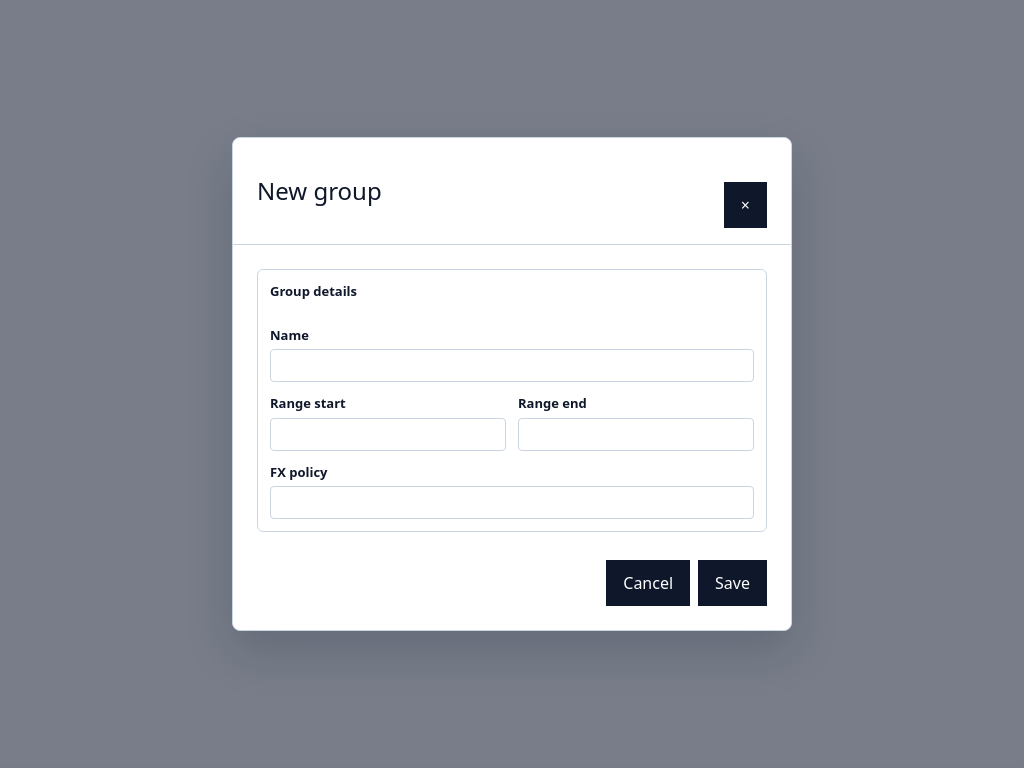
GroupFormModal › blocks an inverted code range as UX-only validation
Type "Assets" into the field labelled "Name".
click(512, 366); type("Assets")  # box [270,349,754,382]
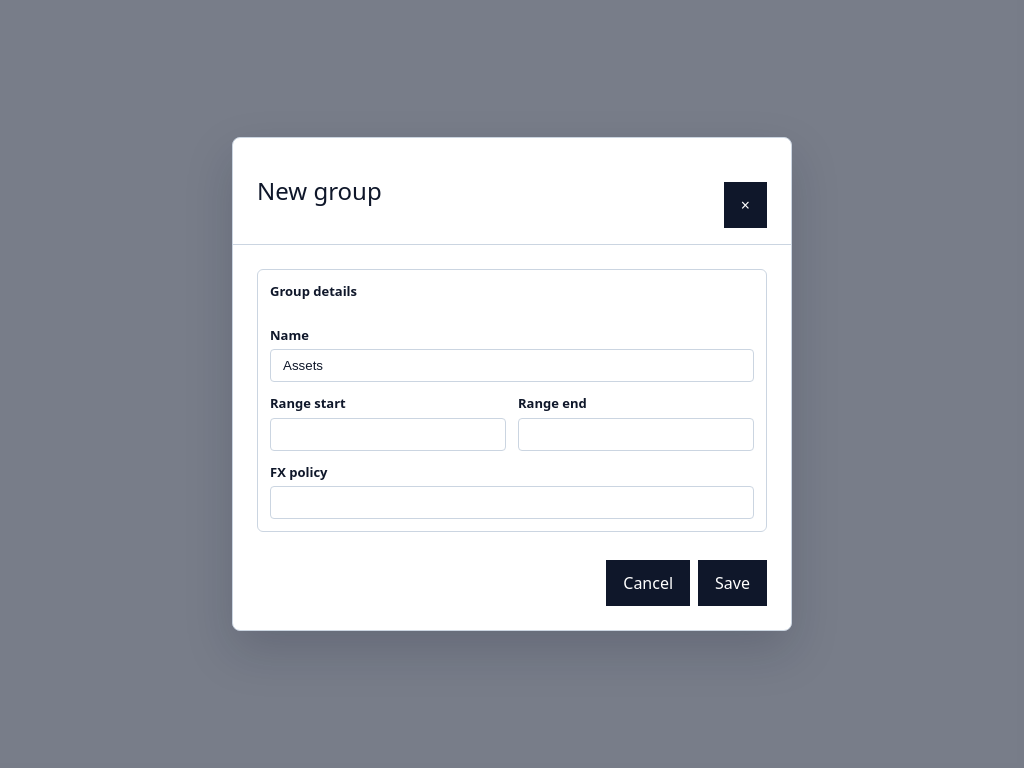
Type "2000" into the field labelled "Range start".
click(388, 434); type("2000")  # box [270,418,506,450]
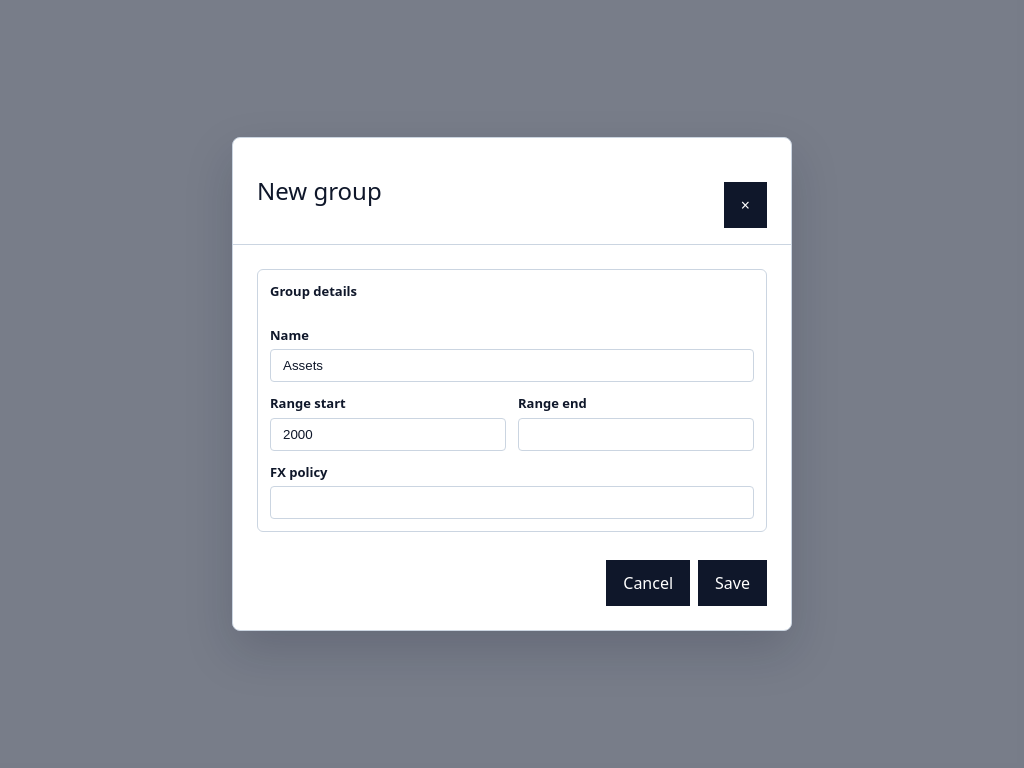
Type "1000" into the field labelled "Range end".
click(636, 434); type("1000")  # box [518,418,754,450]
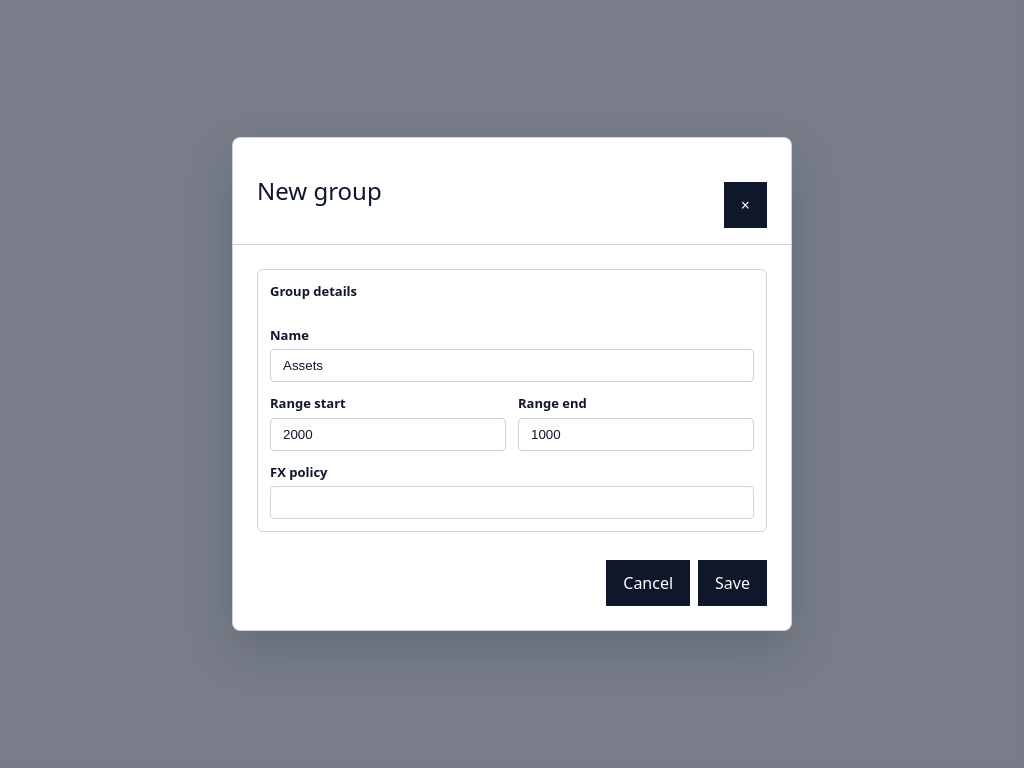
Click the button "Save".
click(733, 583)  # box [698,560,767,606]
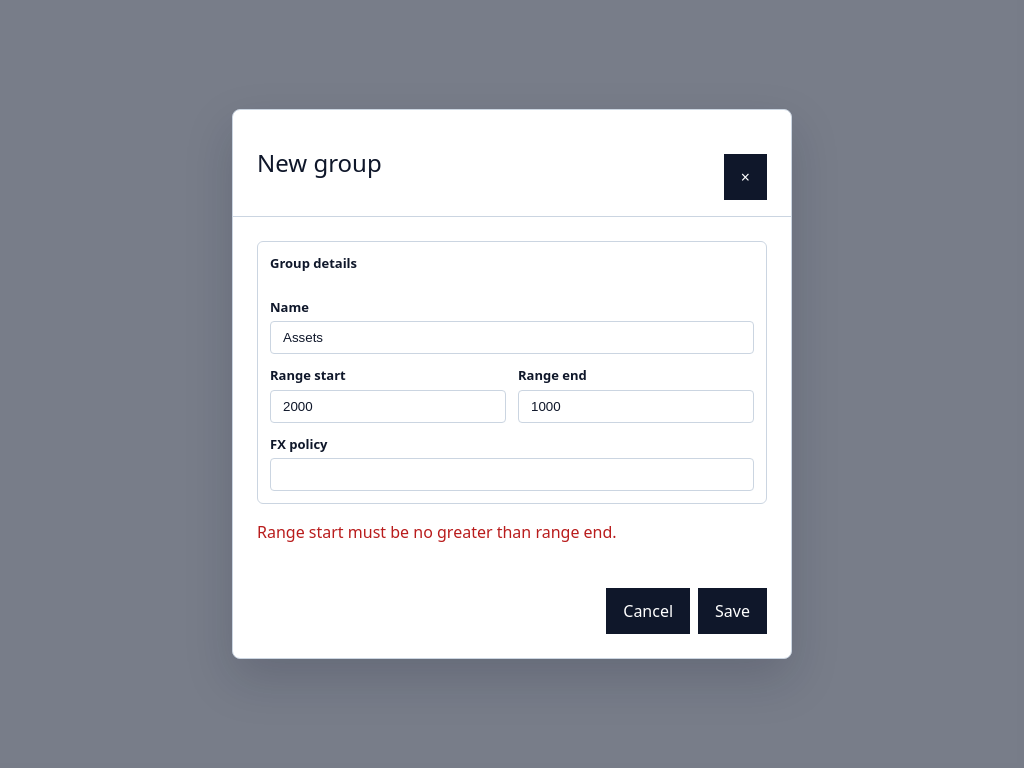
Expected: the message reads "Range start must be no greater than range end.", [257,521,617,543]
